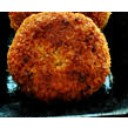cutlet: (8, 12, 113, 102)
